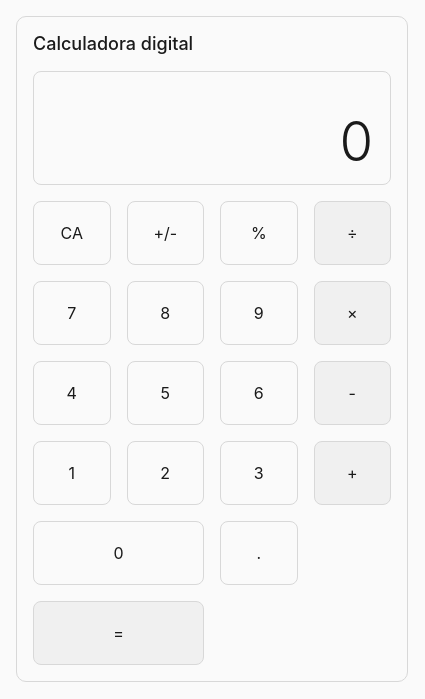
Test case: Calculadora digital › limpia el display al ingresar el siguiente operando
The image size is (425, 699).
What coordinates should you click on to do the following:
click the button named "Número 4"
I would click on:
 (72, 393)
Its box is [33,361,110,425].
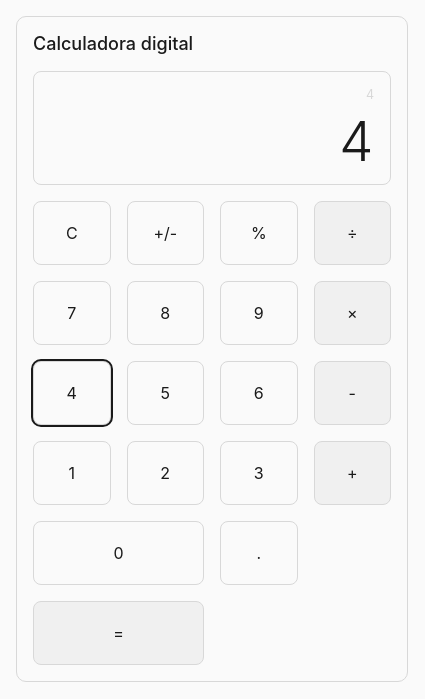
What coordinates should you click on to do the following:
click the button named "Sumar"
I would click on:
 (352, 473)
Its box is [314,441,391,505].
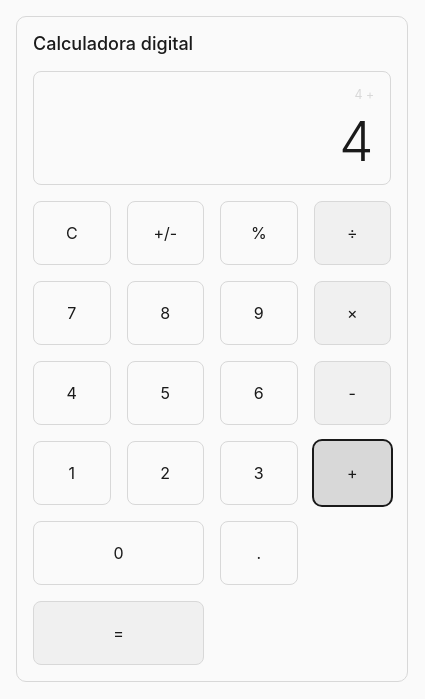
What coordinates should you click on to do the following:
click the button named "Número 9"
I would click on:
 (259, 313)
Its box is [220,281,298,345].
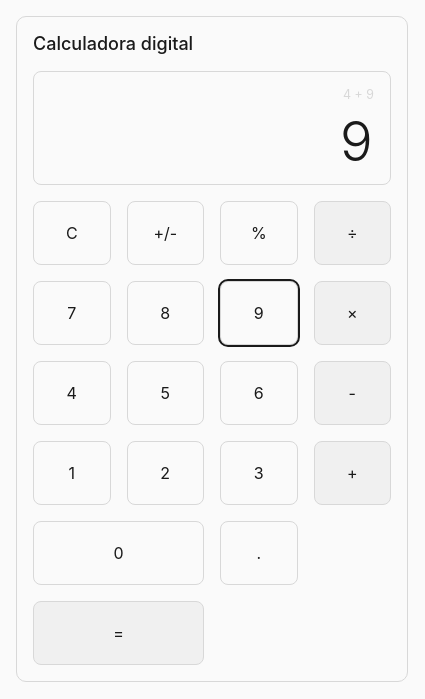
Expected: the text named "display" reads "9", [339,108,374,174]
